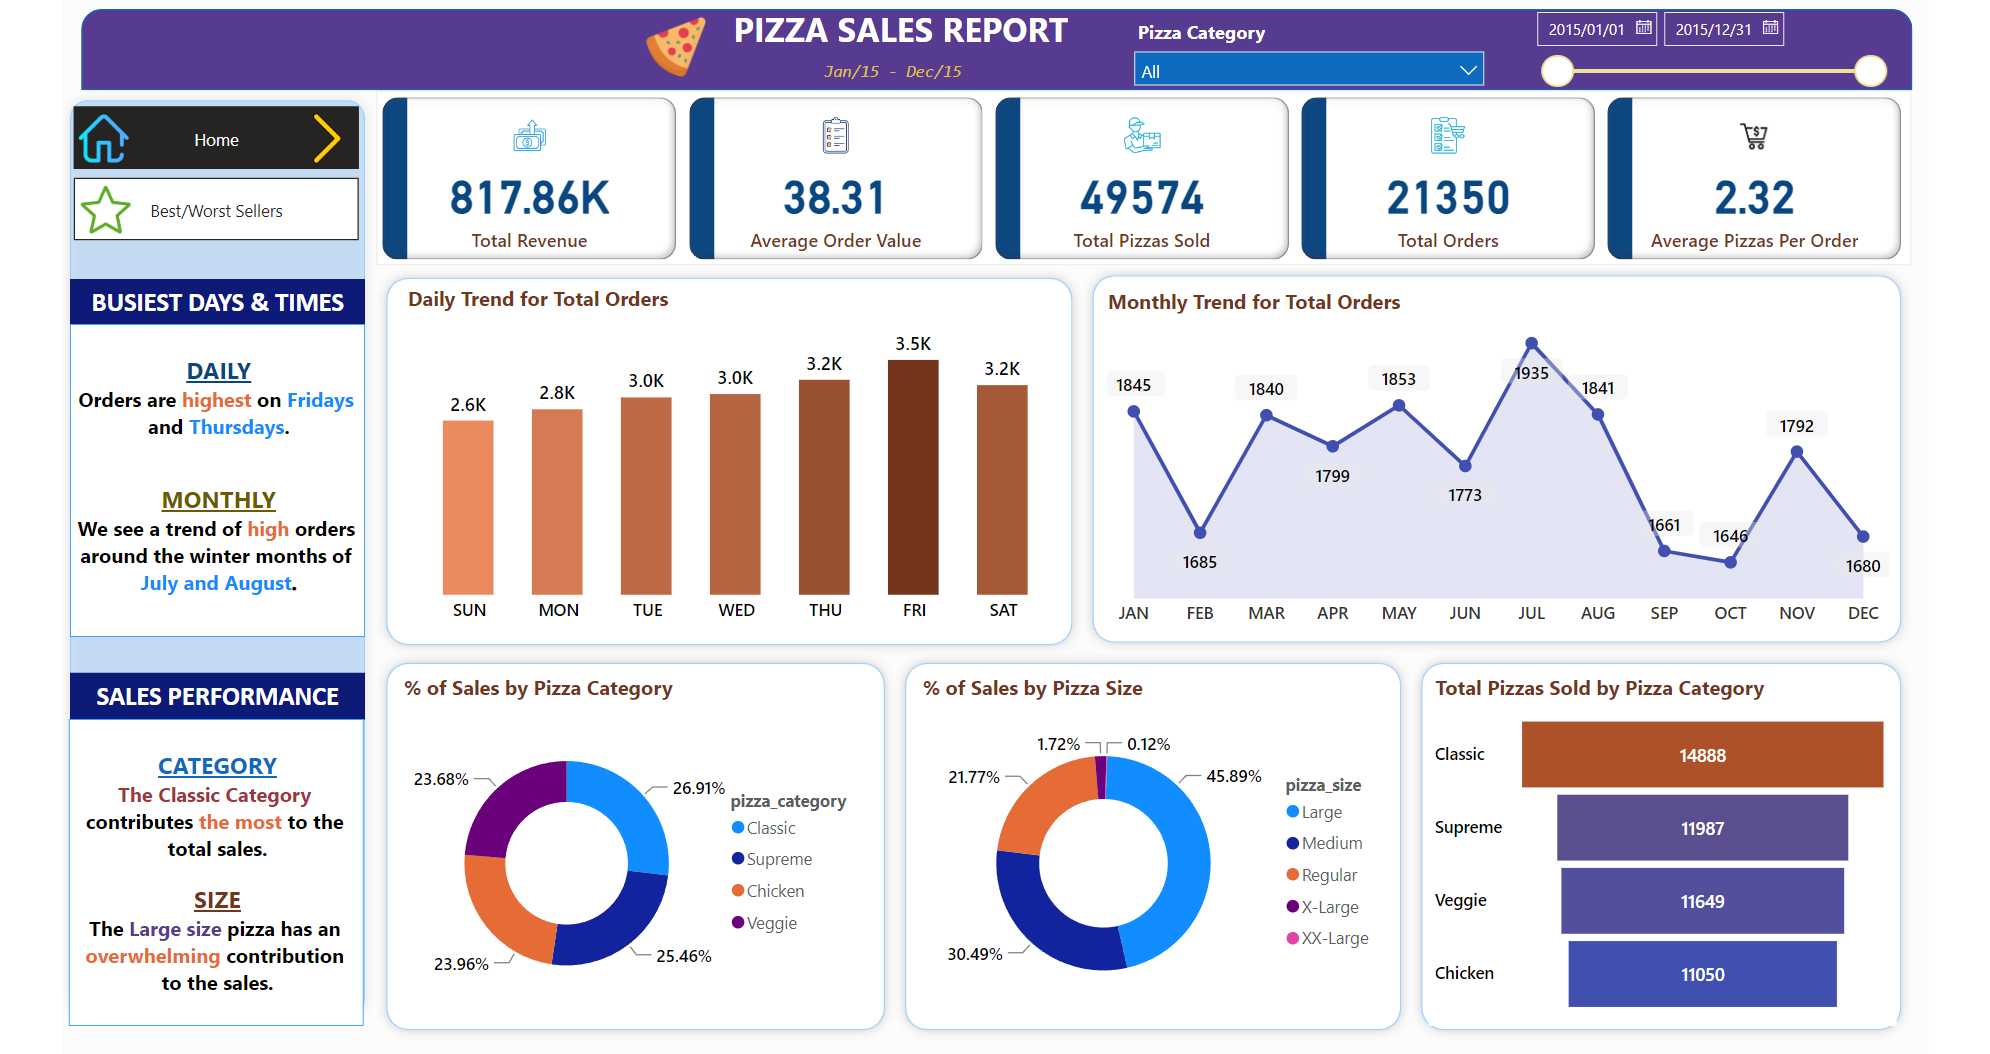

This screenshot's page, from the dashboard's own definition file:
{"tool":"powerbi","page":{"name":"Home","canvas":[1500,846],"ordinal":0},"visuals":[{"type":"cardVisual","fields":{"Data":["pizza_sales.Total Revenue","pizza_sales.Average Order Value","pizza_sales.Total Pizzas Sold","pizza_sales.Total Orders","pizza_sales.Average Pizzas Per Order"]},"box":[252.5,72.5,1228.8,140],"z":0},{"type":"shape","box":[16.7,7.8,1465.6,65.6],"z":1000},{"type":"textbox","box":[525.6,0,293.3,50],"z":2000},{"type":"textbox","box":[605.6,42.2,132.2,30],"z":3000},{"type":"image","box":[460,7.8,65.6,60],"z":4000},{"type":"shape","box":[252.5,215,565,310],"z":5000},{"type":"columnChart","title":"Daily Trend for Total Orders","fields":{"Category":["pizza_sales.Order Day"],"Y":["pizza_sales.Total Orders"]},"box":[273.3,227.8,536.7,280],"z":6000},{"type":"shape","box":[817.5,212.5,663.8,310],"z":7000},{"type":"shape","box":[0,73.3,252.2,748.9],"z":8000},{"type":"areaChart","title":"Monthly Trend for Total Orders","fields":{"Category":["pizza_sales.Order Month"],"Y":["pizza_sales.Total Orders"]},"box":[832.5,230,636.2,280],"z":9000},{"type":"shape","box":[252.5,522.5,415,310],"z":10000},{"type":"shape","box":[667.5,522.5,413.8,310],"z":11000},{"type":"shape","box":[1081.2,522.5,400,310],"z":12000},{"type":"donutChart","title":"% of Sales by Pizza Category","fields":{"Category":["pizza_sales.pizza_category"],"Y":["pizza_sales.Total Revenue"]},"box":[270,538.8,380,282.5],"z":13000},{"type":"donutChart","title":"% of Sales by Pizza Size","fields":{"Category":["pizza_sales.pizza_size"],"Y":["pizza_sales.Total Revenue"]},"box":[685,538.8,380,282.5],"z":14000},{"type":"funnel","title":"Total Pizzas Sold by Pizza Category","fields":{"Category":["pizza_sales.pizza_category"],"Y":["pizza_sales.Total Pizzas Sold"]},"box":[1095,538.8,373.8,282.5],"z":15000},{"type":"textbox","box":[7.5,223.8,236.9,36.2],"z":16000},{"type":"textbox","box":[7.8,260,236.7,250],"z":17000},{"type":"textbox","box":[7.8,538.9,236.7,36.7],"z":18000},{"type":"textbox","box":[6.7,575.6,236.7,245.6],"z":19000},{"type":"slicer","fields":{"Values":["pizza_sales.pizza_category"]},"box":[848.9,10,300,64.4],"z":20000},{"type":"slicer","fields":{"Values":["pizza_sales.order_date"]},"box":[1168.9,0,300,75.6],"z":21000},{"type":"pageNavigator","box":[11,86,228,50],"z":21001},{"type":"pageNavigator","box":[11,143,228,50],"z":21002},{"type":"image","box":[188.9,86.1,50,50],"z":21003},{"type":"image","box":[7,86,55,50],"z":21004},{"type":"image","box":[11.1,142.8,51.1,50],"z":21005}]}

Visuals, with their boxes on the page's 1500x846 design canvas (x1, y1, x2, y2). These are canvas units, not pixel positions in the 1990x1054 screenshot, which may show the page scaled, cropped or inside an application window:
cardVisual - pizza_sales.Total Revenue x pizza_sales.Average Order Value: {"x1": 252, "y1": 72, "x2": 1481, "y2": 212}
shape: {"x1": 17, "y1": 8, "x2": 1482, "y2": 73}
textbox: {"x1": 526, "y1": 0, "x2": 819, "y2": 50}
textbox: {"x1": 606, "y1": 42, "x2": 738, "y2": 72}
image: {"x1": 460, "y1": 8, "x2": 526, "y2": 68}
shape: {"x1": 252, "y1": 215, "x2": 818, "y2": 525}
"Daily Trend for Total Orders" columnChart: {"x1": 273, "y1": 228, "x2": 810, "y2": 508}
shape: {"x1": 818, "y1": 212, "x2": 1481, "y2": 522}
shape: {"x1": 0, "y1": 73, "x2": 252, "y2": 822}
"Monthly Trend for Total Orders" areaChart: {"x1": 832, "y1": 230, "x2": 1469, "y2": 510}
shape: {"x1": 252, "y1": 522, "x2": 668, "y2": 832}
shape: {"x1": 668, "y1": 522, "x2": 1081, "y2": 832}
shape: {"x1": 1081, "y1": 522, "x2": 1481, "y2": 832}
"% of Sales by Pizza Category" donutChart: {"x1": 270, "y1": 539, "x2": 650, "y2": 821}
"% of Sales by Pizza Size" donutChart: {"x1": 685, "y1": 539, "x2": 1065, "y2": 821}
"Total Pizzas Sold by Pizza Category" funnel: {"x1": 1095, "y1": 539, "x2": 1469, "y2": 821}
textbox: {"x1": 8, "y1": 224, "x2": 244, "y2": 260}
textbox: {"x1": 8, "y1": 260, "x2": 244, "y2": 510}
textbox: {"x1": 8, "y1": 539, "x2": 244, "y2": 576}
textbox: {"x1": 7, "y1": 576, "x2": 243, "y2": 821}
slicer - pizza_sales.pizza_category: {"x1": 849, "y1": 10, "x2": 1149, "y2": 74}
slicer - pizza_sales.order_date: {"x1": 1169, "y1": 0, "x2": 1469, "y2": 76}
pageNavigator: {"x1": 11, "y1": 86, "x2": 239, "y2": 136}
pageNavigator: {"x1": 11, "y1": 143, "x2": 239, "y2": 193}
image: {"x1": 189, "y1": 86, "x2": 239, "y2": 136}
image: {"x1": 7, "y1": 86, "x2": 62, "y2": 136}
image: {"x1": 11, "y1": 143, "x2": 62, "y2": 193}
